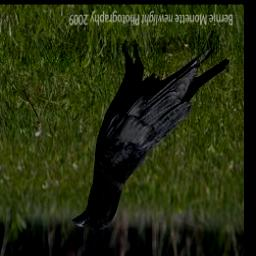Crow: (71, 36, 230, 231)
